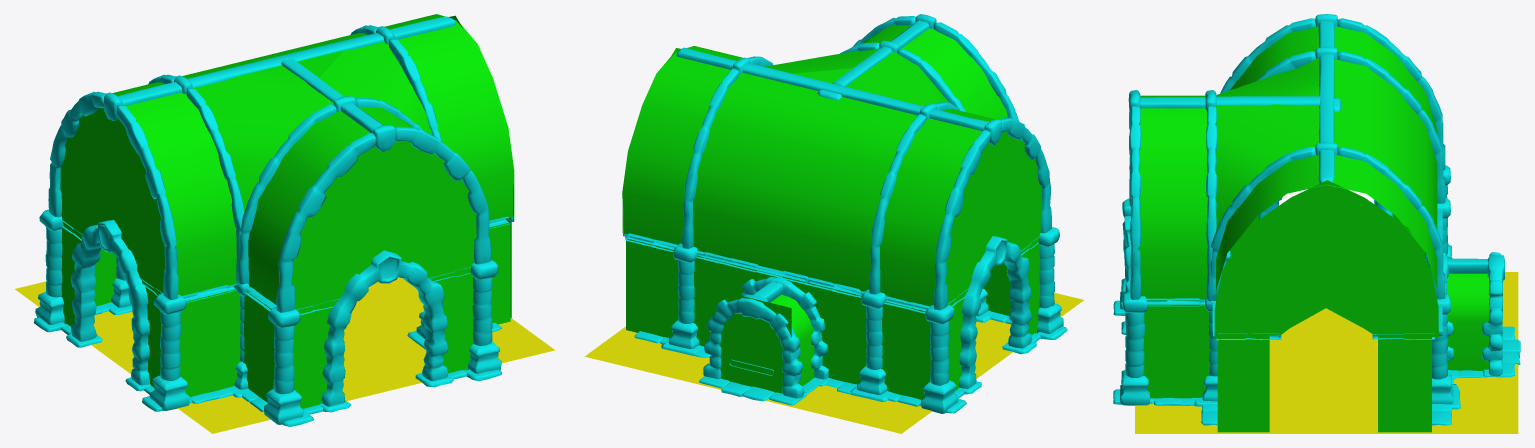
Rendered from Hallway_TSection_1.fbx.
The picture shows the model from 3 angles, left to right: view 1: azimuth 30°, elevation 25°; view 2: azimuth 150°, elevation 25°; view 3: azimuth 270°, elevation 25°; orthographic projection. The views are drawn at different scales.
Parts seen in each view (by area): view 1: Room_T_1:TSection1FinishedRoomspolySurface363, Room_T_1:TSection1FinishedRoomspolySurface360, Room_T_1:pPlane1TSection1FinishedRooms; view 2: Room_T_1:TSection1FinishedRoomspolySurface363, Room_T_1:TSection1FinishedRoomspolySurface360, Room_T_1:pPlane1TSection1FinishedRooms; view 3: Room_T_1:TSection1FinishedRoomspolySurface363, Room_T_1:TSection1FinishedRoomspolySurface360, Room_T_1:pPlane1TSection1FinishedRooms.
Part boxes in pixels (x1,y1,x2,y2): Room_T_1:TSection1FinishedRoomspolySurface363: [60, 14, 514, 408]; Room_T_1:TSection1FinishedRoomspolySurface360: [34, 16, 514, 426]; Room_T_1:pPlane1TSection1FinishedRooms: [15, 277, 554, 433]; Room_T_1:TSection1FinishedRoomspolySurface363: [622, 25, 1042, 399]; Room_T_1:TSection1FinishedRoomspolySurface360: [624, 14, 1067, 413]; Room_T_1:pPlane1TSection1FinishedRooms: [585, 292, 1083, 433]; Room_T_1:TSection1FinishedRoomspolySurface363: [1139, 26, 1489, 432]; Room_T_1:TSection1FinishedRoomspolySurface360: [1113, 14, 1520, 425]; Room_T_1:pPlane1TSection1FinishedRooms: [1135, 272, 1518, 433].
Size of the model in its own units: 1274 by 897 by 1276.
